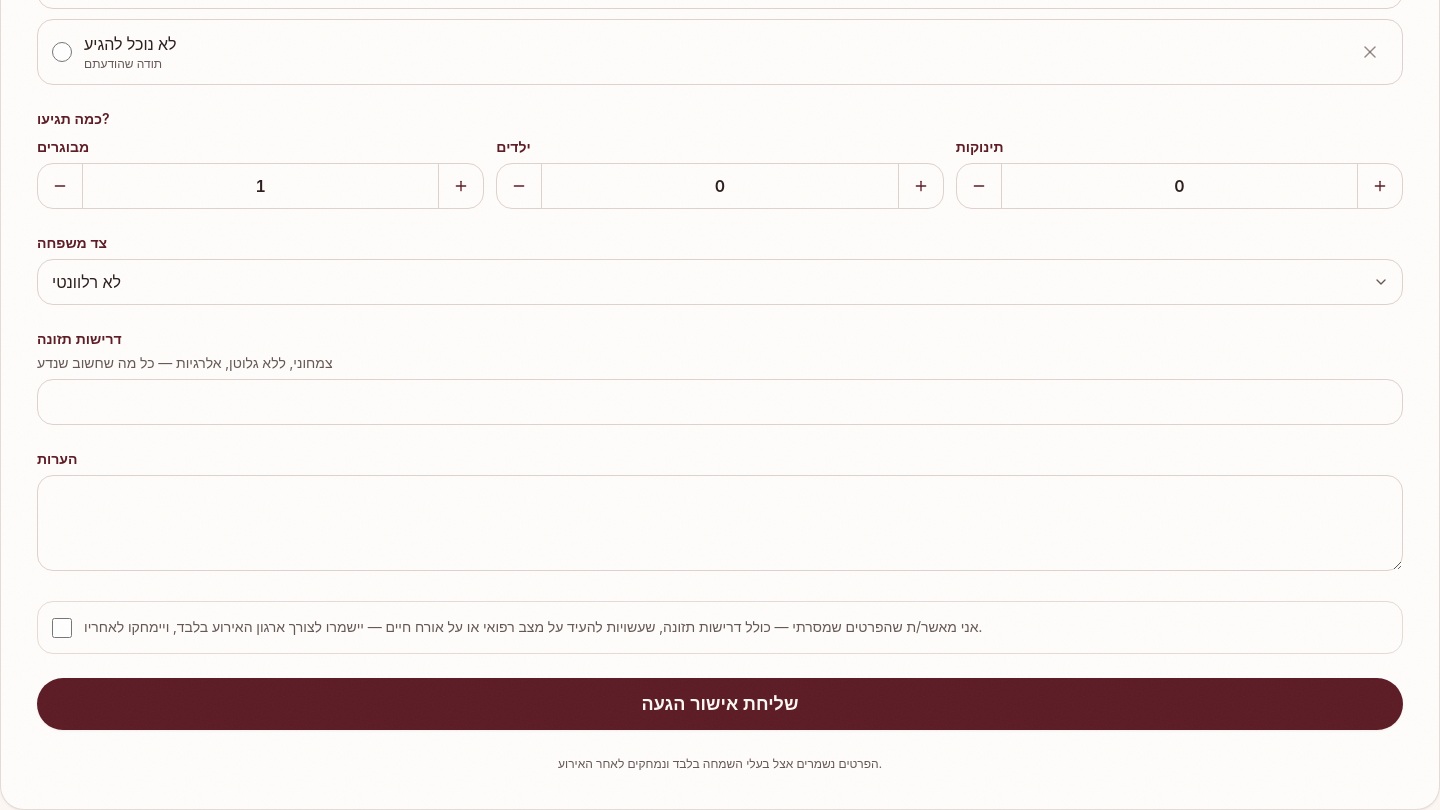
Scenario: RsvpForm › after a rejected submission › redraws every field with what the guest typed
The width and height of the screenshot is (1440, 810).
(page scrolled)
Click the button "שליחת אישור הגעה". click: (720, 704)
box: [37,678,1403,730]
(page scrolled)
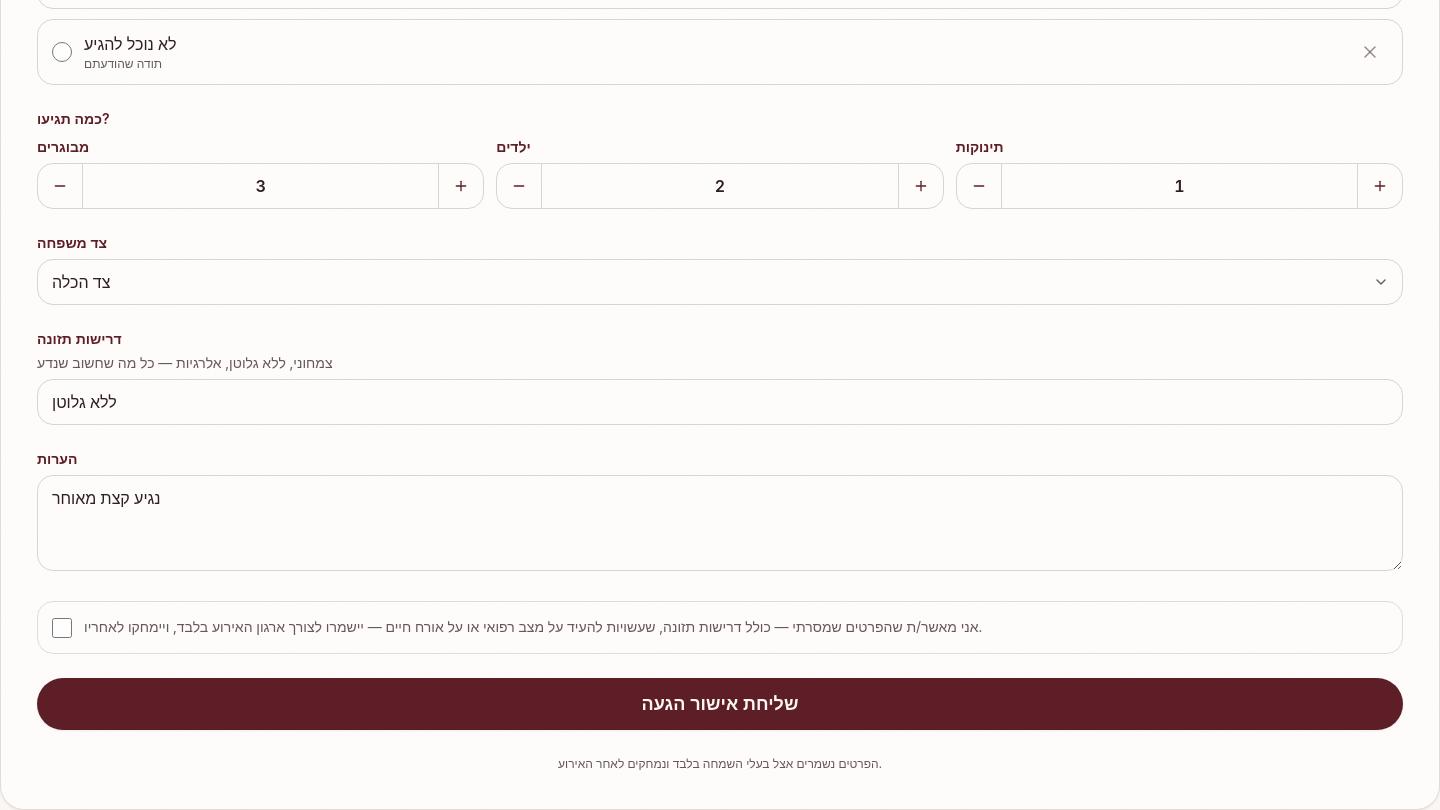
Now the number field labelled "מבוגרים" holds "3", box [82,164,439,208]
Now the number field labelled "ילדים" holds "2", box [541,164,899,208]
Now the number field labelled "תינוקות" holds "1", box [1001,164,1358,208]
